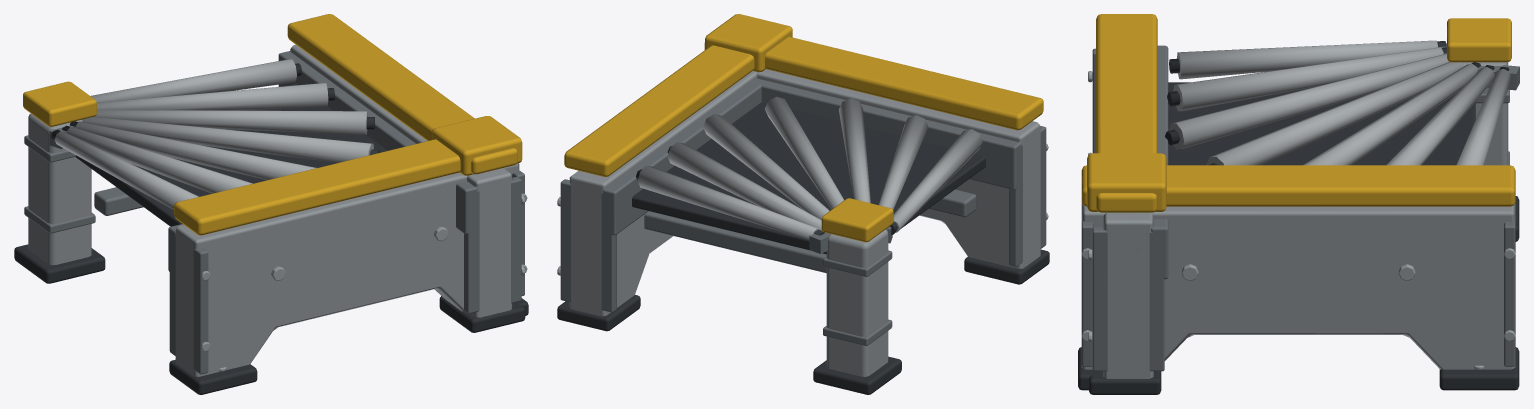
Rendered from fw_bleft.glb.
3 renders of one model, left to right at view 1: azimuth 30°, elevation 25°; view 2: azimuth 150°, elevation 25°; view 3: azimuth 270°, elevation 25°, orthographic. The views are drawn at different scales.
Parts seen in each view (by area): view 1: prism, block.002, block.008, block.013, prism.001, cyl.006, cyl.008, cyl.010, cyl.004, block, cyl.012, block.007 (+13 smaller); view 2: block, block.002, prism, block.008, prism.001, block.013, block.001, block.007, cyl.012, block.020, cyl.010, cyl.008 (+14 smaller); view 3: prism.001, block.008, block.002, block, prism, cyl.004, cyl.006, cyl.002, cyl.001, block.005, cyl.008, block.018 (+10 smaller).
Part boxes in pixels (x1,y1,x2,y2): prism: (175, 163, 519, 376); block.002: (174, 139, 460, 235); block.008: (287, 14, 517, 174); block.013: (28, 113, 91, 265); prism.001: (290, 44, 512, 317); cyl.006: (82, 116, 373, 162); cyl.008: (95, 110, 367, 134); cyl.010: (97, 83, 328, 110); cyl.004: (76, 121, 316, 180); block: (75, 83, 387, 226); cyl.012: (90, 59, 296, 102); block.007: (278, 51, 477, 234); block: (632, 102, 985, 254); block.002: (704, 37, 1043, 130); prism: (756, 69, 1040, 268); block.008: (564, 45, 754, 176); prism.001: (569, 71, 757, 316); block.013: (826, 229, 888, 376); block.001: (753, 78, 1021, 189); block.007: (603, 79, 765, 235); cyl.012: (638, 166, 819, 240); block.020: (644, 211, 826, 273); cyl.010: (667, 142, 821, 230); cyl.008: (703, 114, 829, 219); prism.001: (1081, 202, 1515, 369); block.008: (1081, 165, 1515, 206); block.002: (1096, 14, 1157, 212); block: (1168, 82, 1475, 165); prism: (1103, 212, 1153, 378); cyl.004: (1168, 54, 1449, 149); cyl.006: (1206, 62, 1463, 165); cyl.002: (1173, 47, 1443, 111); cyl.001: (1177, 40, 1437, 79); block.005: (1092, 227, 1164, 371); cyl.008: (1303, 63, 1477, 165); block.018: (1087, 153, 1166, 211).
Size of the model in its own units: 1.22 by 0.635 by 1.22.
